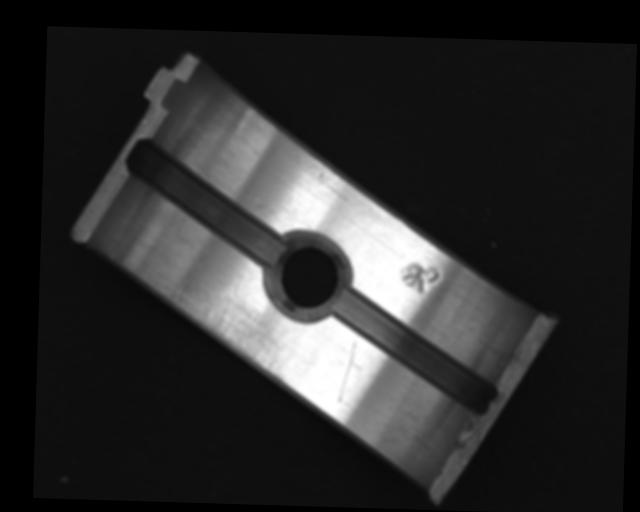bruise: (397, 261, 442, 300)
gap: (122, 139, 290, 266), (329, 291, 500, 414)
hole: (263, 227, 352, 320)
nick: (337, 338, 358, 403)
scratch: (161, 273, 294, 385)
